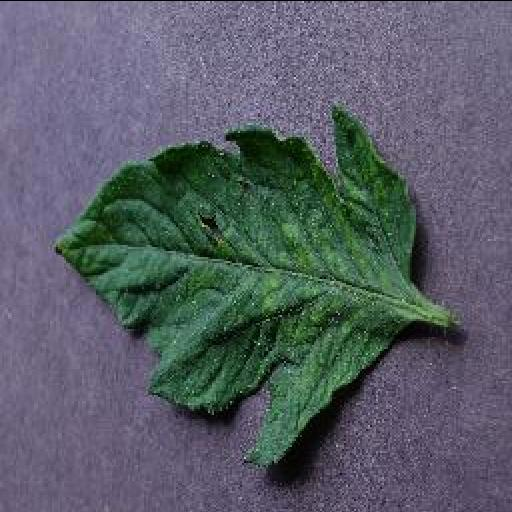Mosaic Virus: (51, 101, 417, 467)
